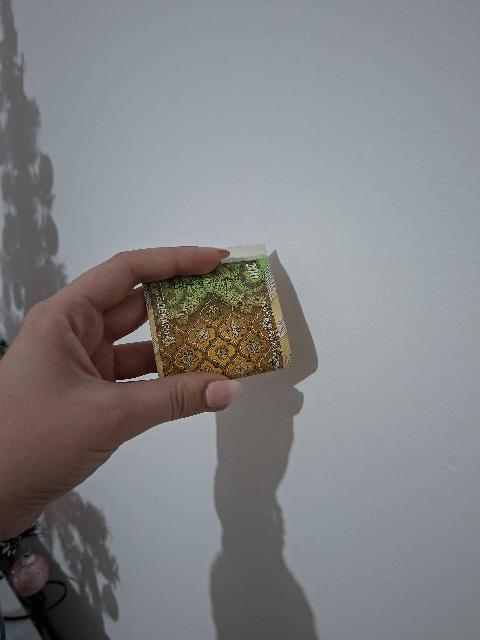note: (144, 245, 291, 378)
